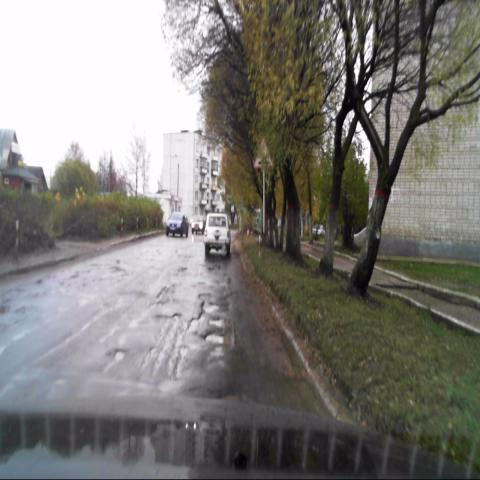1_17: (254, 135, 274, 169)
